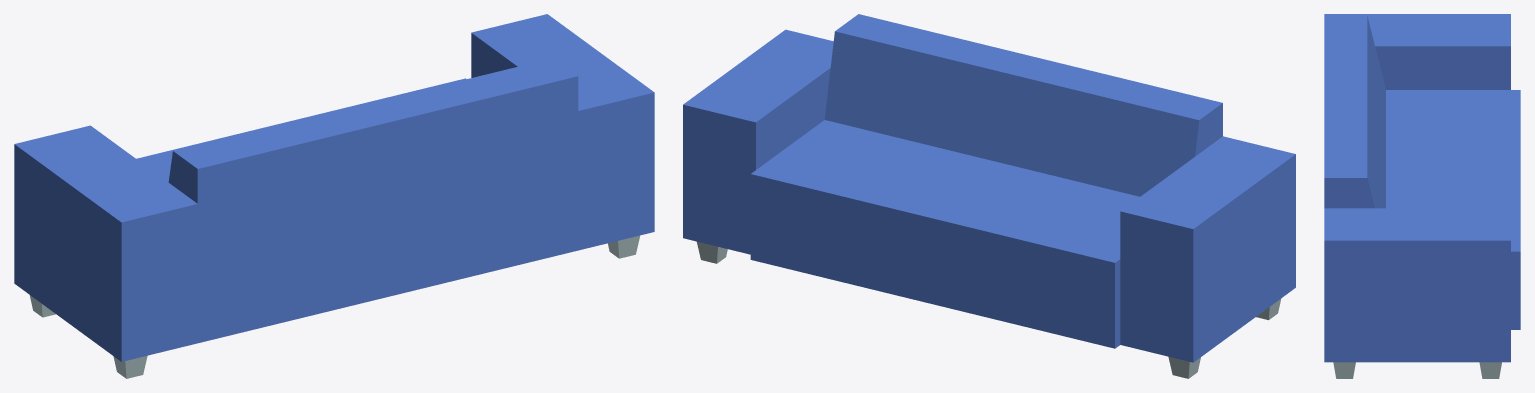
Rendered from loungeDesignSofa.fbx.
3 renders of one model, left to right at view 1: azimuth 30°, elevation 25°; view 2: azimuth 150°, elevation 25°; view 3: azimuth 270°, elevation 25°, orthographic. The views are drawn at different scales.
Visible parts, largest first — view 1: loungeDesignSofa; view 2: loungeDesignSofa; view 3: loungeDesignSofa.
Boxes of the visible parts, x1,y1,x2,y2 form: loungeDesignSofa: (14,14,654,378); loungeDesignSofa: (683,14,1295,378); loungeDesignSofa: (1324,14,1520,378).
Bounding box in the file's own units: 11.2 × 4 × 4.1.
